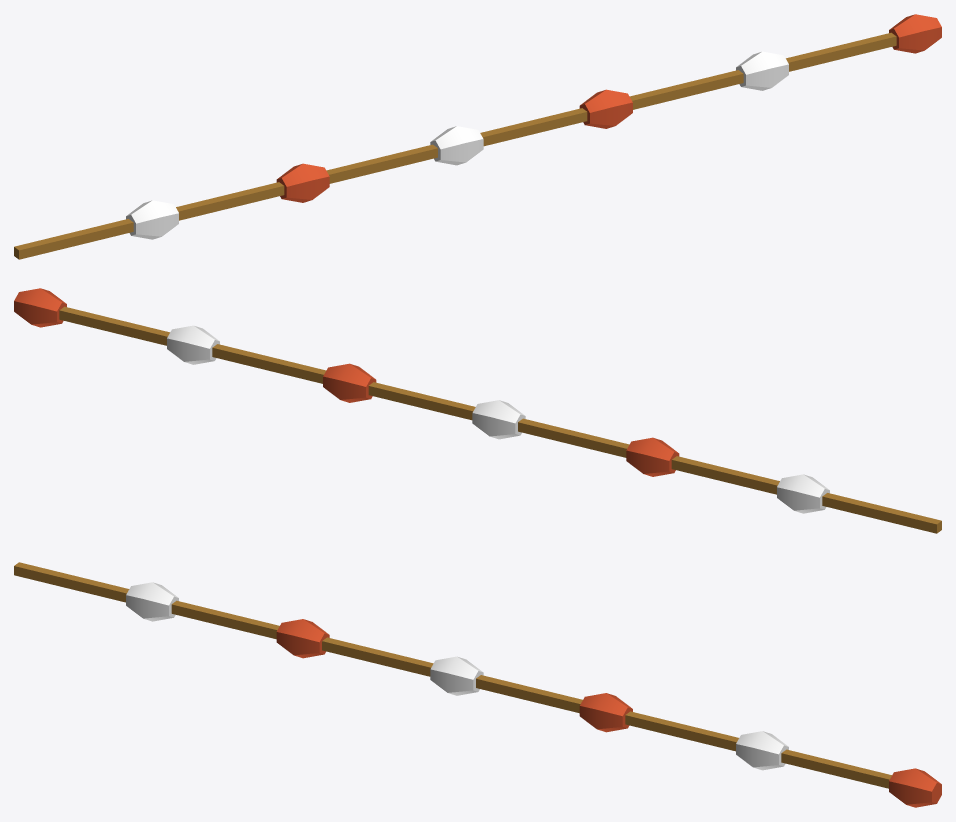
Rendered from boundry_bouyies.fbx.
3 views of the same model, one above another, from view 1: azimuth 30°, elevation 25°; view 2: azimuth 150°, elevation 25°; view 3: azimuth 330°, elevation 25° (orthographic).
Parts seen in each view (by area): view 1: pCylinder9; view 2: pCylinder9; view 3: pCylinder9.
Boxes of the visible parts, x1,y1,x2,y2 form: pCylinder9: (14,14,941,259); pCylinder9: (14,288,941,533); pCylinder9: (14,562,941,807).
Size of the model in its own units: 104 by 4.24 by 3.67.
1 material, 1 textured.
